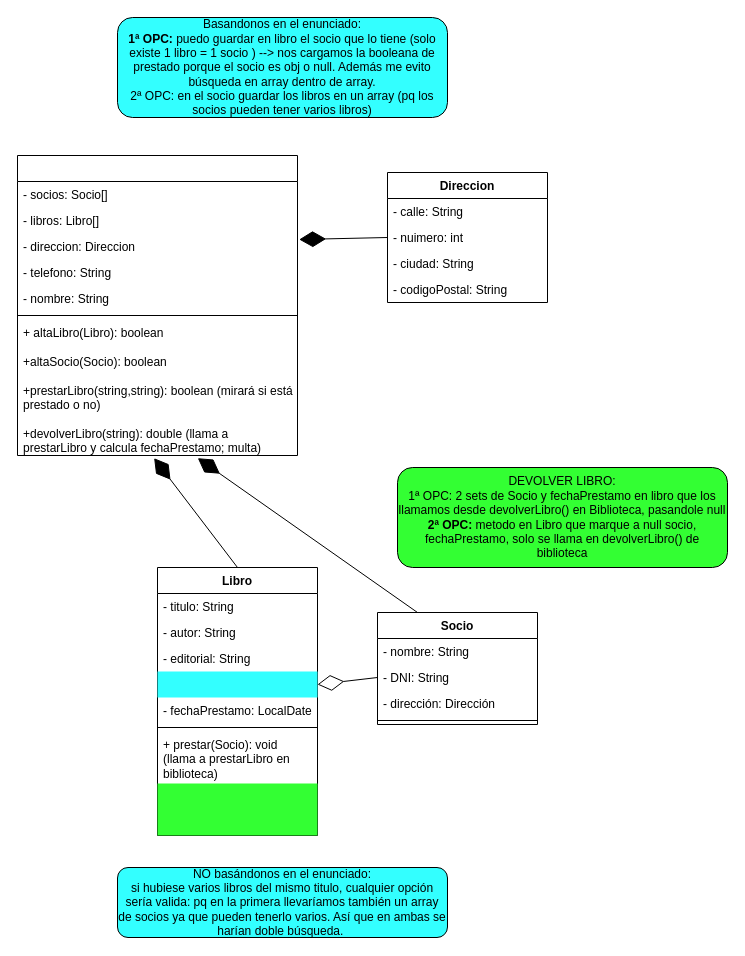
This 745x956 diagram has some shape labels left out. Here are the shapes that lost their labels. From the top down, the box of each, then its label:
(16, 154, 298, 456): Biblioteca
(157, 671, 317, 697): - socio: Socio
(157, 783, 317, 835): + devolver(): void (null socio y fechaPrestamo)
